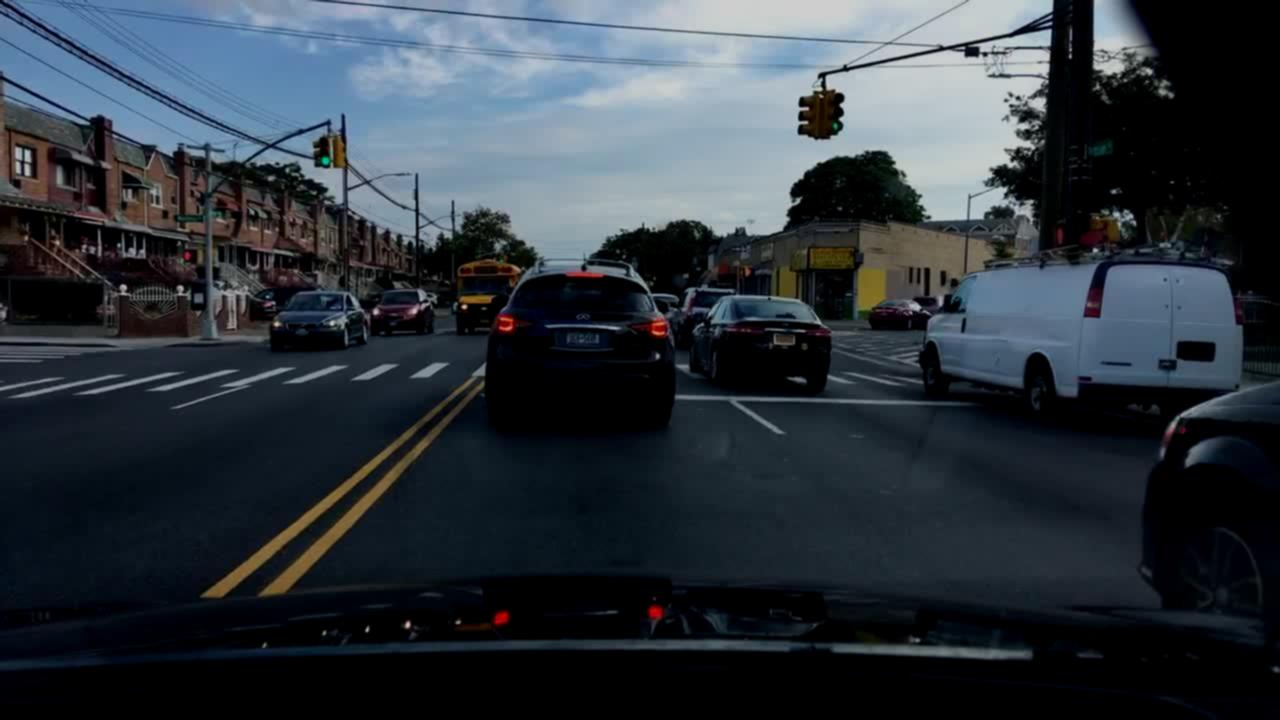Infiniti: (571, 308, 594, 326)
